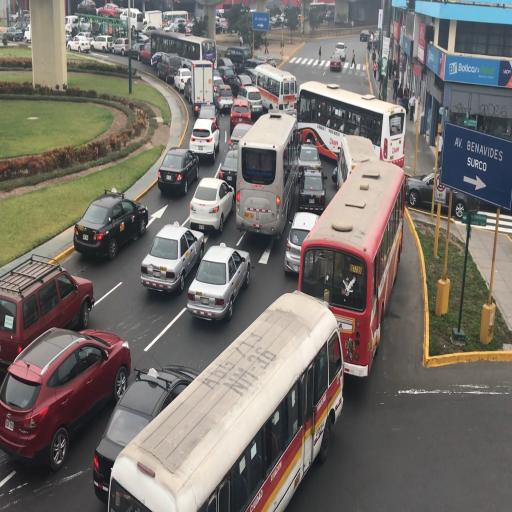auto: (2, 328, 130, 472), (93, 362, 198, 506), (1, 252, 93, 378), (74, 187, 148, 261), (188, 244, 254, 322), (140, 220, 205, 292), (405, 170, 475, 219), (188, 176, 234, 234), (158, 146, 200, 197), (297, 166, 325, 215), (189, 116, 220, 159), (218, 148, 240, 195), (297, 140, 322, 180), (237, 83, 264, 117), (156, 51, 182, 83), (229, 122, 253, 154), (230, 96, 252, 129), (214, 84, 234, 114), (214, 58, 236, 84), (221, 70, 242, 96), (235, 69, 256, 92), (138, 41, 158, 65), (197, 100, 217, 122), (109, 36, 131, 56), (90, 34, 113, 53), (174, 68, 192, 92), (244, 58, 270, 74), (67, 36, 91, 52), (2, 26, 24, 43), (97, 3, 120, 18), (64, 14, 79, 36), (10, 10, 30, 25), (119, 8, 132, 29), (77, 0, 96, 14), (168, 18, 187, 32), (213, 74, 225, 96), (184, 77, 194, 103), (78, 16, 92, 34), (138, 24, 158, 36), (16, 17, 29, 35), (76, 31, 94, 44), (335, 42, 347, 61), (330, 53, 342, 72), (112, 25, 127, 38), (89, 20, 101, 36), (184, 20, 197, 34), (359, 29, 371, 42), (219, 18, 229, 33), (269, 16, 280, 29), (276, 13, 286, 25), (215, 18, 222, 34), (373, 29, 381, 42), (65, 31, 72, 45), (325, 10, 333, 21), (65, 23, 72, 35)
moto: (108, 298, 328, 506), (300, 148, 402, 372), (300, 82, 399, 169), (235, 107, 296, 239), (249, 62, 296, 118), (224, 45, 254, 73), (142, 9, 165, 30), (168, 10, 190, 24)
